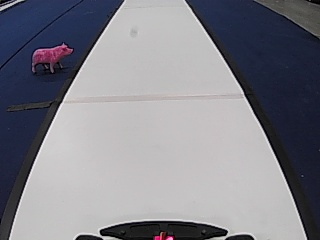pig: (29, 40, 73, 74)
